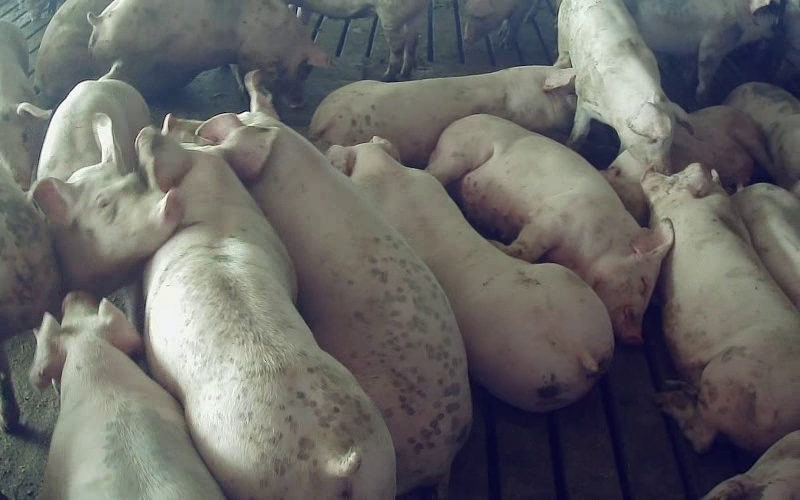pig: (197, 73, 471, 492), (138, 126, 395, 499), (330, 137, 613, 411), (427, 115, 673, 342), (642, 164, 799, 452), (30, 292, 223, 499), (31, 63, 177, 294), (309, 66, 575, 167), (88, 0, 330, 106), (556, 0, 685, 172)
